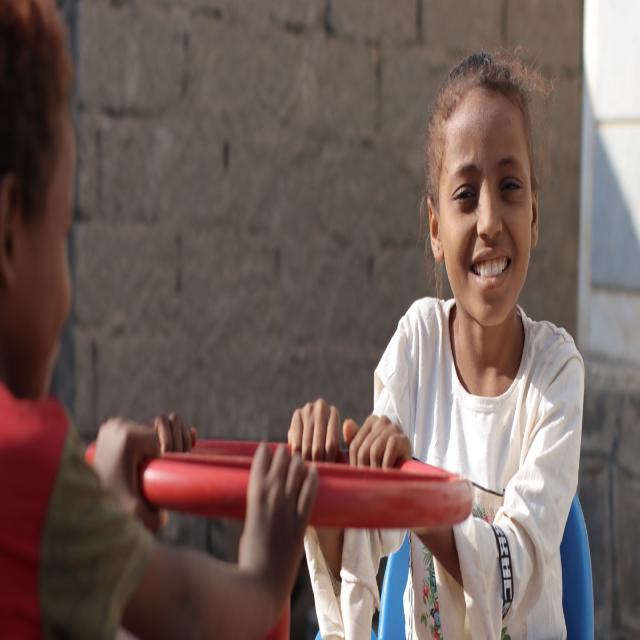child: (1, 0, 322, 640), (279, 47, 583, 640)
